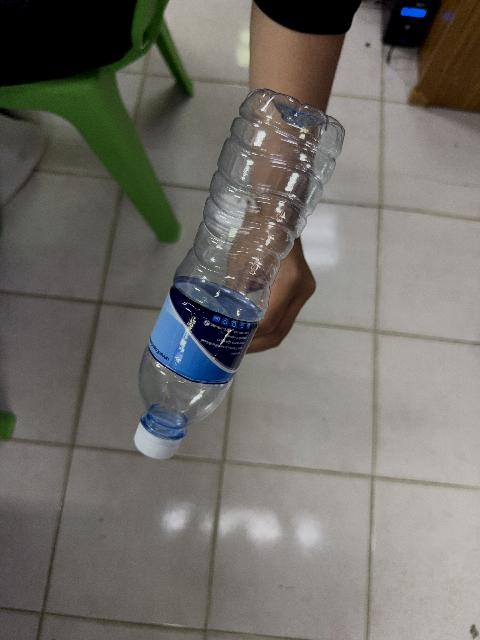bottle: (134, 90, 343, 458)
